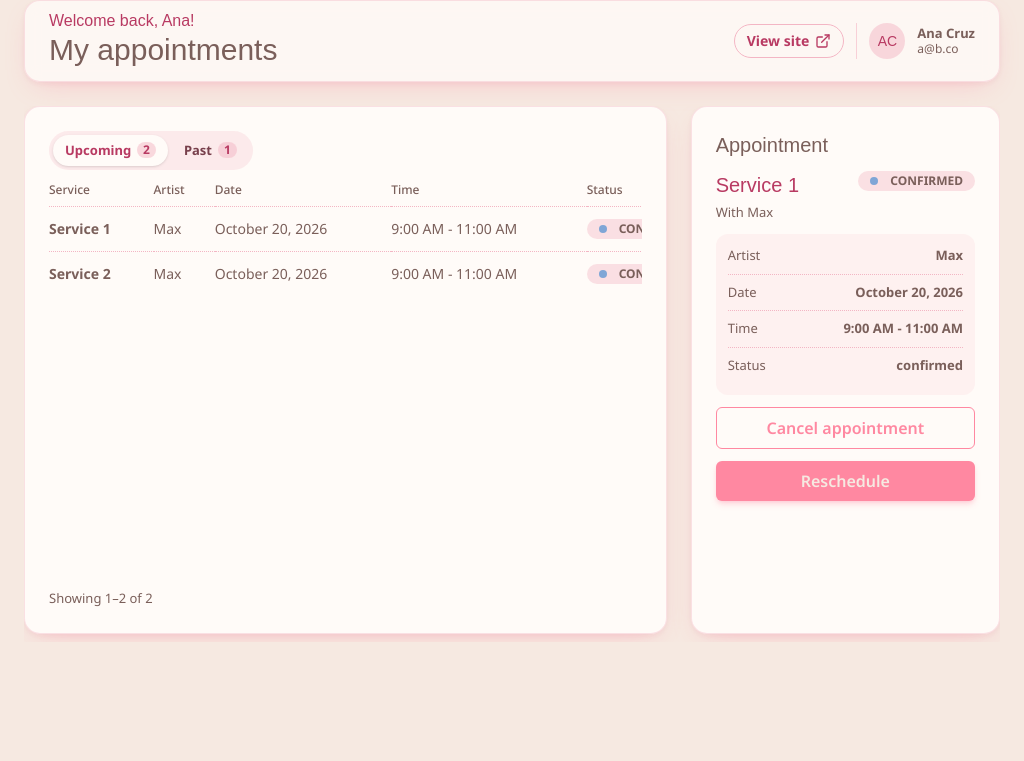
Scenario: My appointments › starts on Upcoming and switches to Past
The width and height of the screenshot is (1024, 761).
Expected: the button "Service 1" is shown, x1=49 y1=219 x2=111 y2=239
Expected: the text "Service 3" is not shown
Click the tab "Past 1" at (210, 150), box x1=172 y1=134 x2=249 y2=166
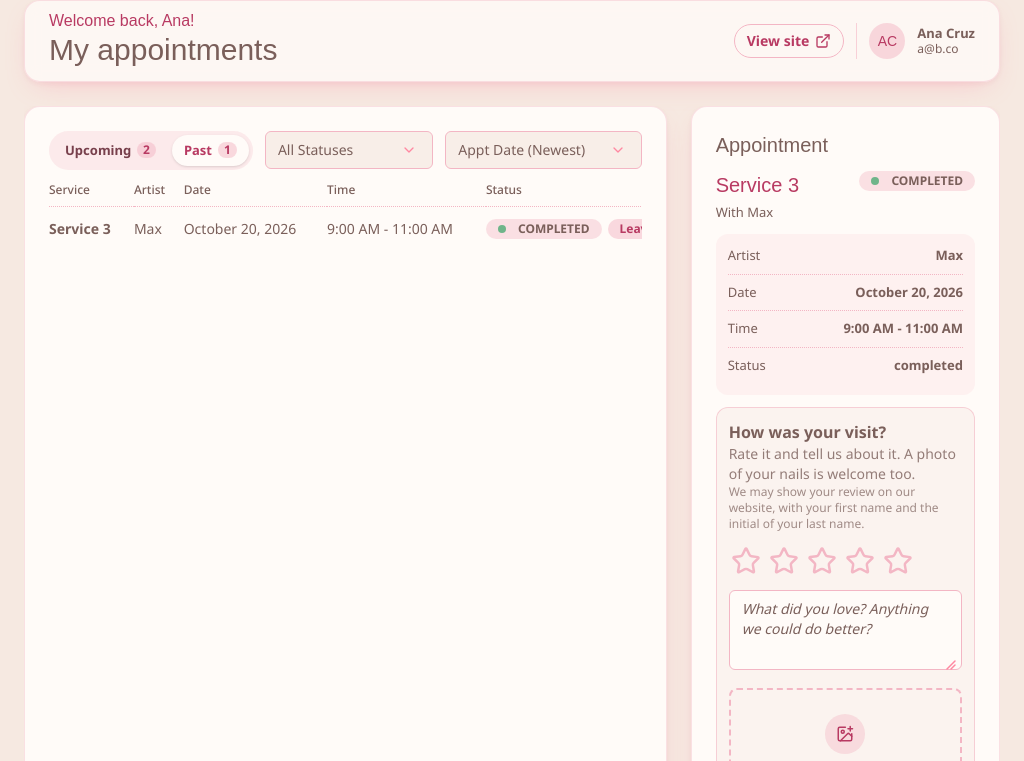
Result: the button "Service 3" is shown at x1=49 y1=219 x2=111 y2=239
Result: the button "Service 1" is gone
